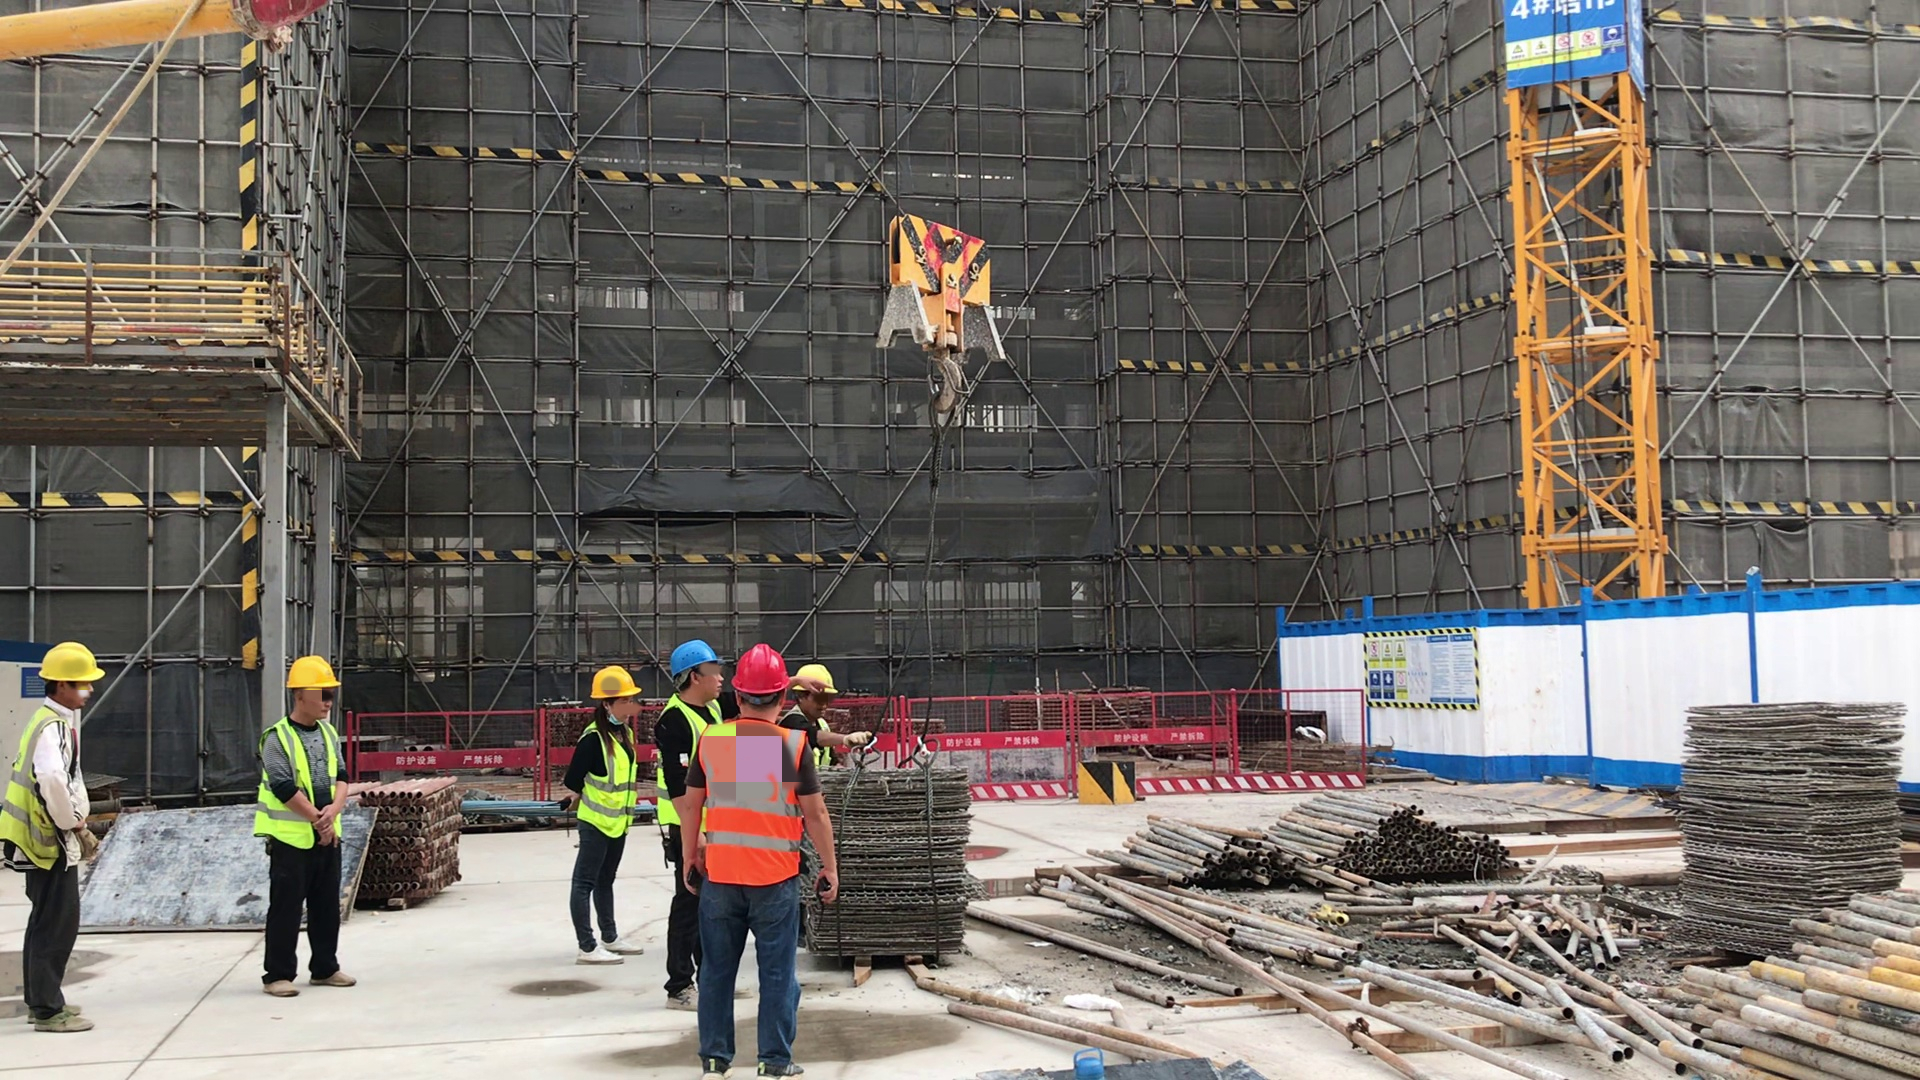fence: (1132, 682, 1370, 797), (970, 691, 1076, 805), (370, 705, 547, 767)
helmet: (735, 646, 791, 699), (35, 642, 105, 683), (285, 654, 342, 691), (668, 640, 723, 678), (588, 666, 643, 699), (792, 662, 837, 697)
hook: (870, 211, 1008, 413)
person: (675, 646, 843, 1079), (1, 641, 108, 1041), (255, 650, 364, 1005), (560, 663, 651, 969), (794, 661, 878, 756), (655, 640, 728, 728)
scaffold: (1677, 885, 1920, 1077), (1288, 789, 1519, 883), (1089, 815, 1314, 890), (371, 778, 470, 902)
slogan: (1510, 1, 1632, 82), (1365, 632, 1481, 704)
vest: (696, 722, 806, 886), (2, 707, 84, 876), (249, 718, 345, 849), (577, 719, 635, 841), (654, 694, 702, 827)
